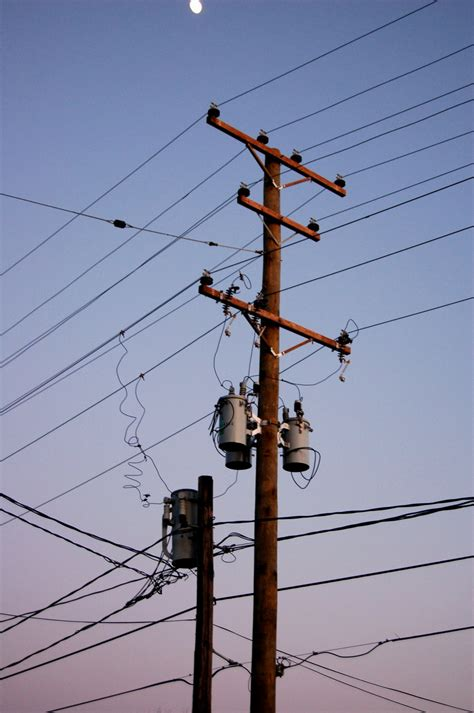pole: (184, 86, 357, 709)
